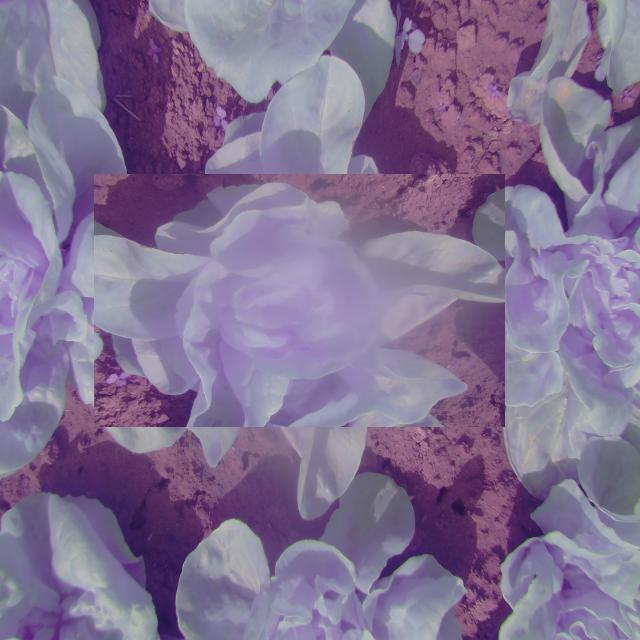vege: (133, 134, 466, 466)
